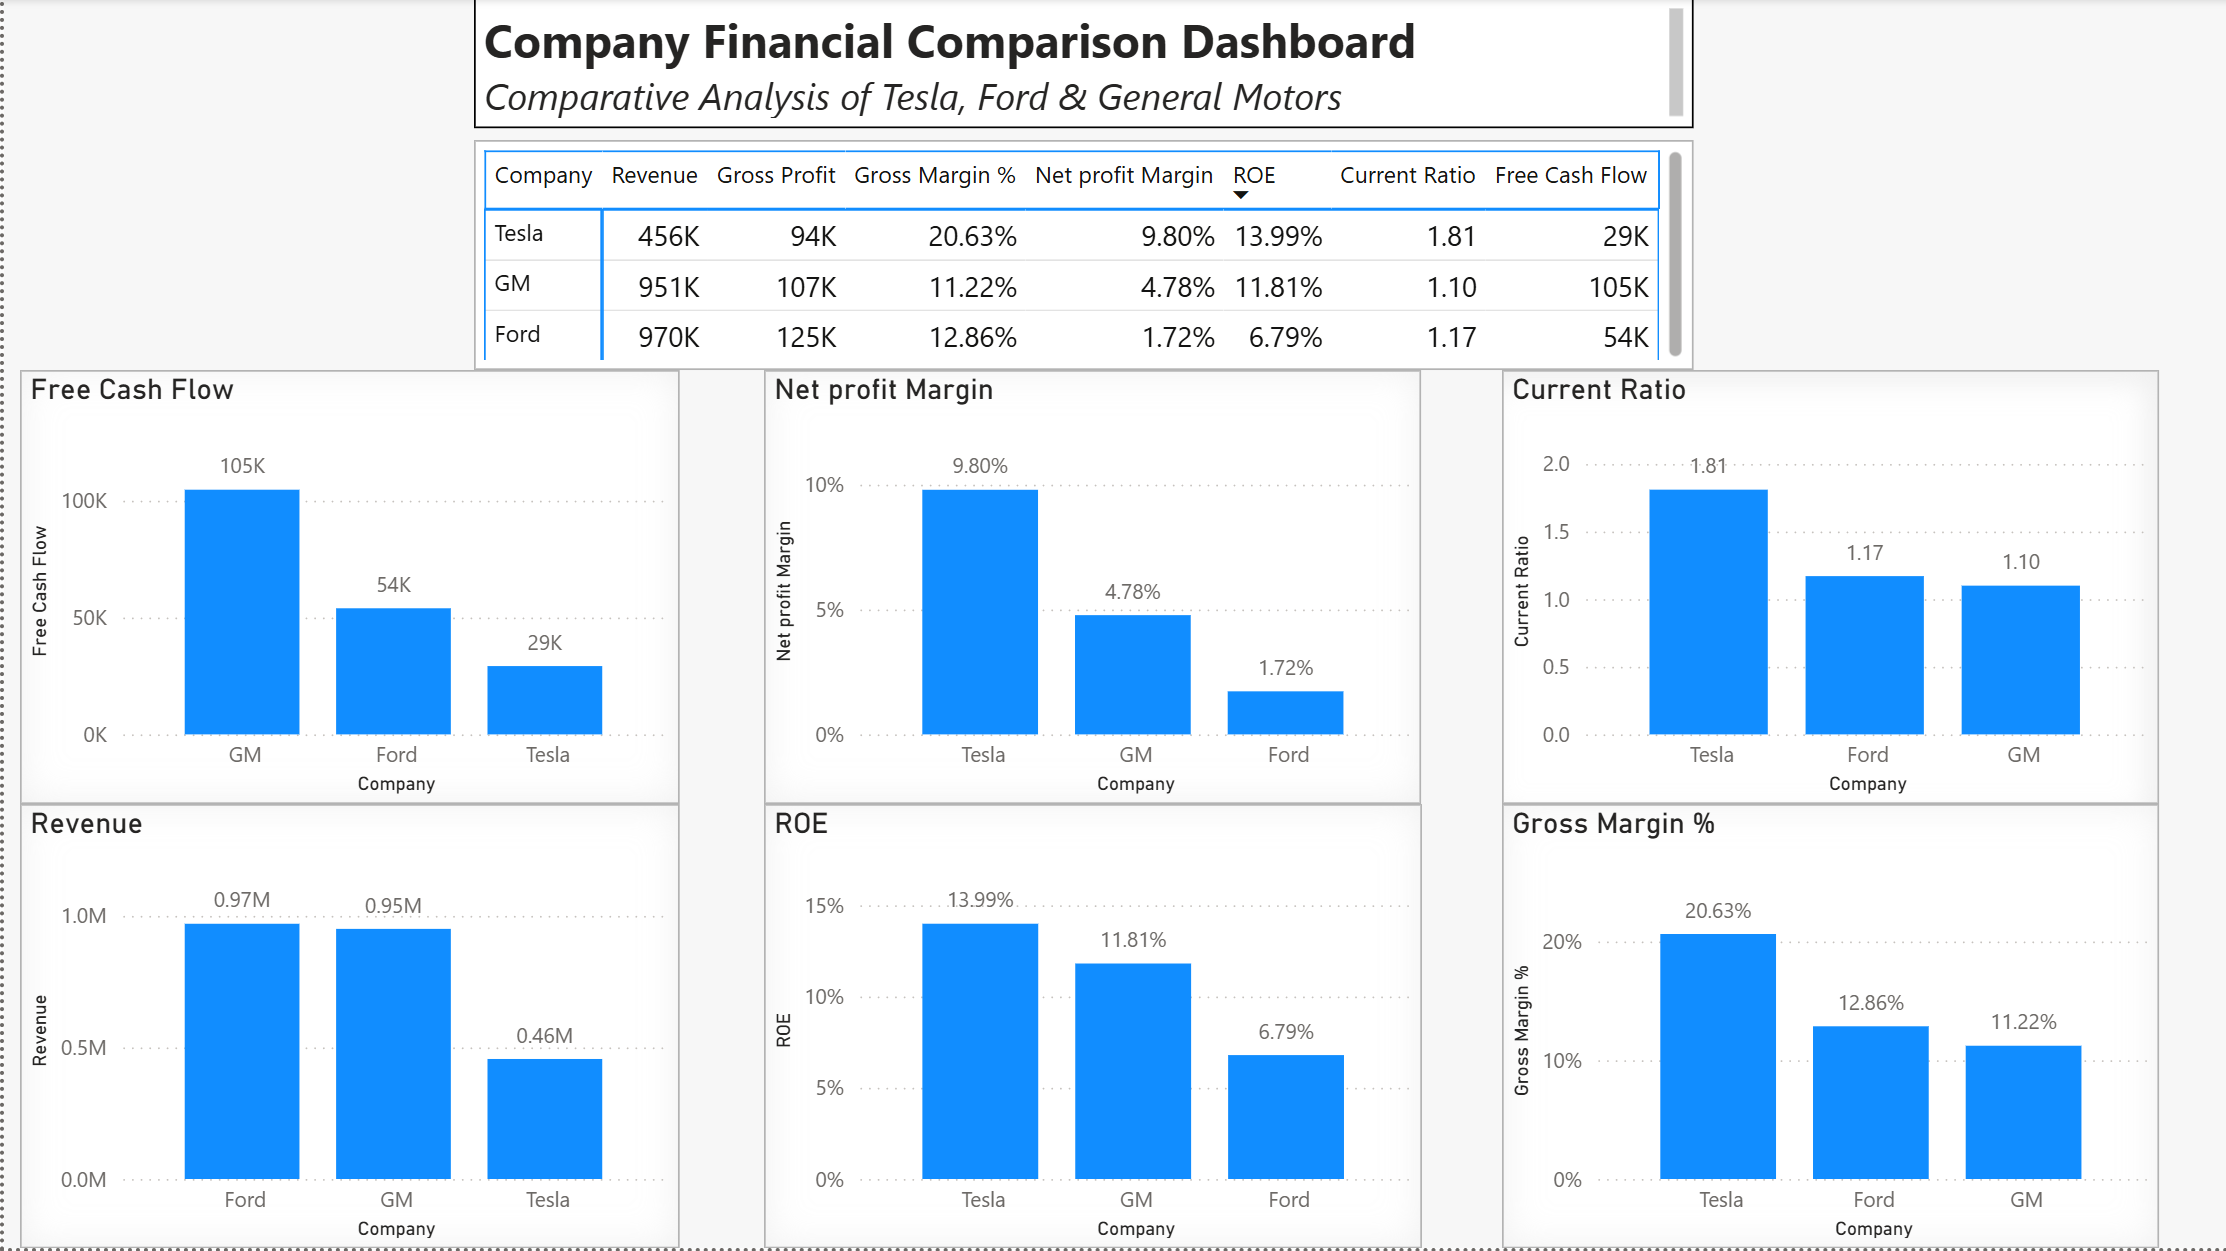

This screenshot's page, from the dashboard's own definition file:
{"tool":"powerbi","page":{"name":"Company Comparison","canvas":[1280,720],"ordinal":1},"visuals":[{"type":"textbox","box":[270.3,0,702.5,75.2],"z":0},{"type":"clusteredColumnChart","title":"Revenue ","fields":{"Category":["Companies.Company"],"Y":["Income_Statement.Revenue"]},"box":[8.9,464.1,379.9,256],"z":1000},{"type":"clusteredColumnChart","title":"ROE ","fields":{"Category":["Companies.Company"],"Y":["Balance_Sheet.ROE"]},"box":[437.3,464.1,379,256],"z":2000},{"type":"clusteredColumnChart","title":"Gross Margin %","fields":{"Category":["Companies.Company"],"Y":["Income_Statement.Gross Margin %"]},"box":[863.1,464.1,378.6,256],"z":3000},{"type":"clusteredColumnChart","title":"Net profit Margin ","fields":{"Category":["Companies.Company"],"Y":["Income_Statement.Net profit Margin"]},"box":[437.3,214.2,378.6,249.9],"z":4000},{"type":"clusteredColumnChart","title":"Free Cash Flow ","fields":{"Category":["Companies.Company"],"Y":["Cash_Flow.Free Cash Flow"]},"box":[8.9,214.2,379.9,249.9],"z":5000},{"type":"pivotTable","fields":{"Rows":["Companies.Company"],"Values":["Income_Statement.Revenue","Income_Statement.Gross Profit","Income_Statement.Gross Margin %","Income_Statement.Net profit Margin","Balance_Sheet.ROE","Balance_Sheet.Current Ratio","Cash_Flow.Free Cash Flow"]},"box":[270.3,81.6,702.5,132.6],"z":6000},{"type":"clusteredColumnChart","title":"Current Ratio ","fields":{"Category":["Companies.Company"],"Y":["Balance_Sheet.Current Ratio"]},"box":[863.1,214.2,378.6,249.9],"z":7000}]}

Visuals, with their boxes in screenshot pixels (x1, y1, x2, y2), scaled from the page's 1280x720 canvas onto the 2226x1251 screenshot:
textbox: 470/0/1692/131
"Revenue " clusteredColumnChart: 15/806/676/1250
"ROE " clusteredColumnChart: 760/806/1420/1250
"Gross Margin %" clusteredColumnChart: 1501/806/2159/1250
"Net profit Margin " clusteredColumnChart: 760/372/1419/806
"Free Cash Flow " clusteredColumnChart: 15/372/676/806
pivotTable - Companies.Company x Income_Statement.Revenue: 470/142/1692/372
"Current Ratio " clusteredColumnChart: 1501/372/2159/806
